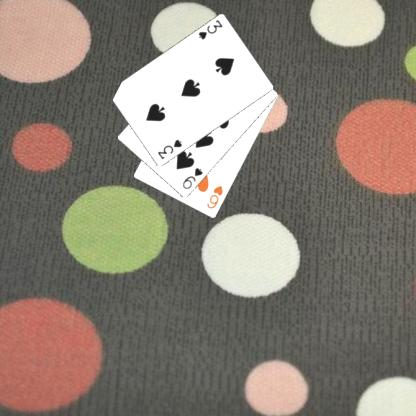3S: (155, 136, 183, 160), (196, 18, 224, 42)
6H: (204, 182, 224, 210)
9S: (180, 165, 204, 191)
